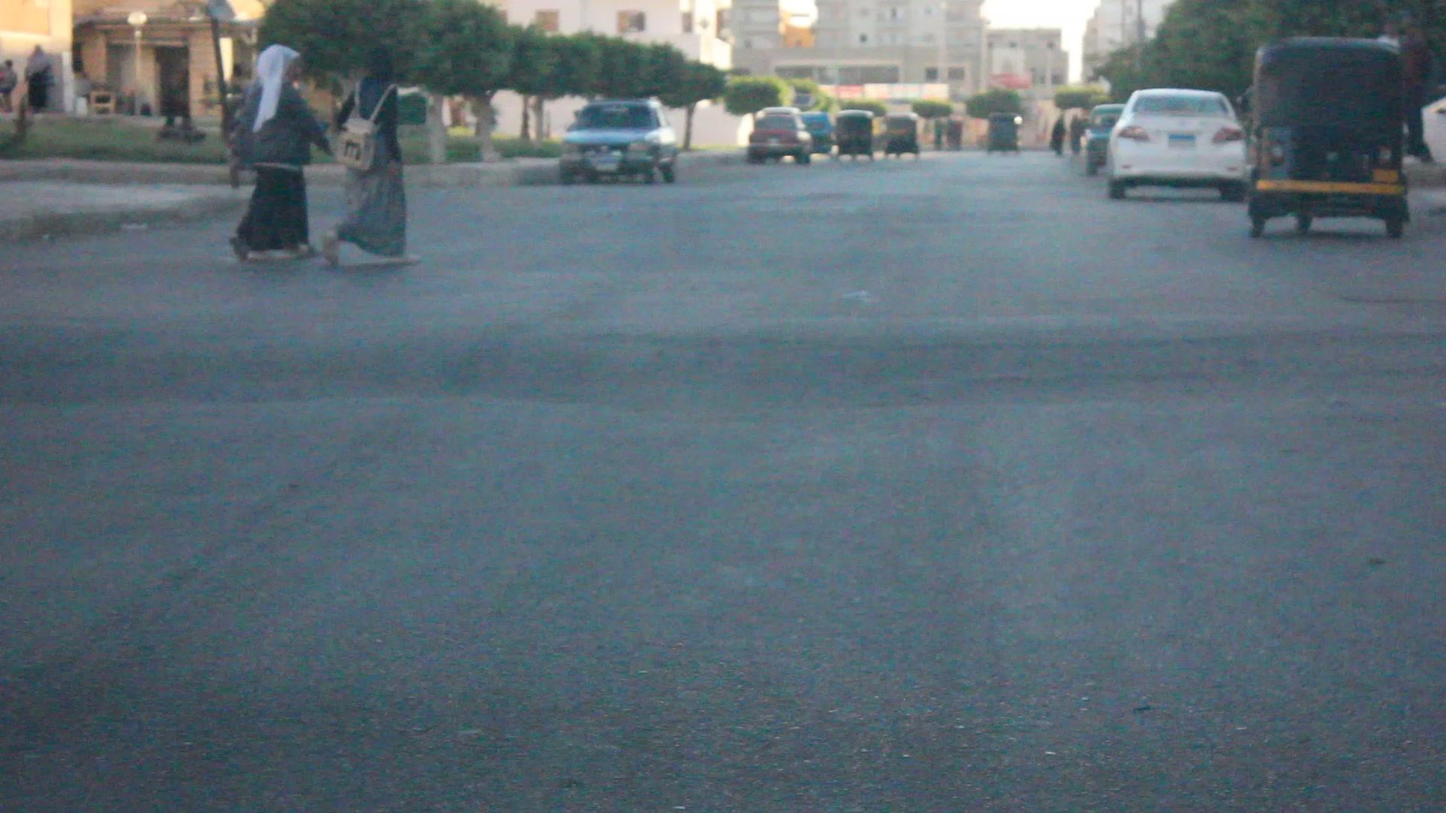Bump: (11, 293, 1440, 420)
